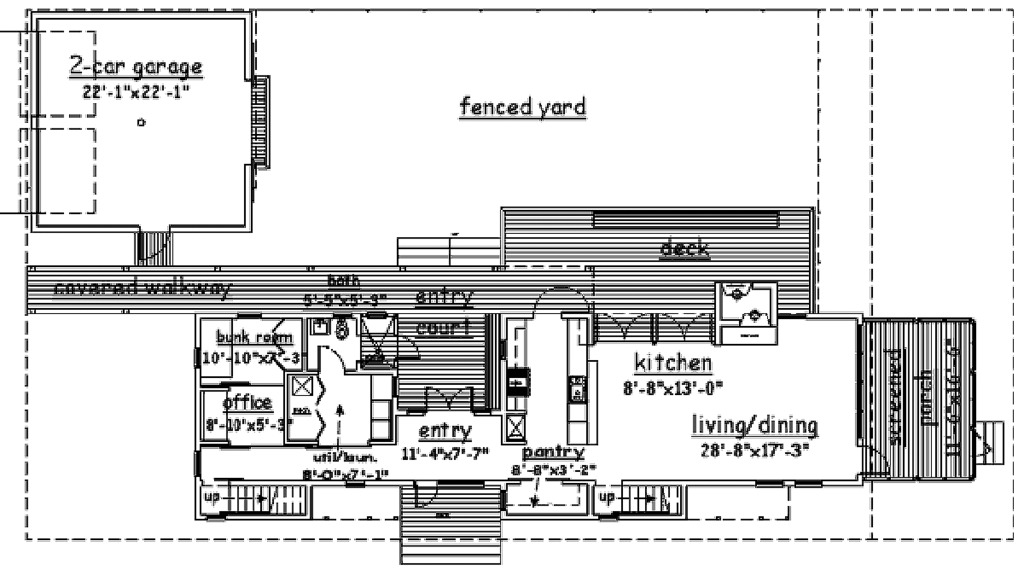door: (316, 340, 344, 376)
stairs: (201, 482, 308, 516), (600, 480, 684, 518)
